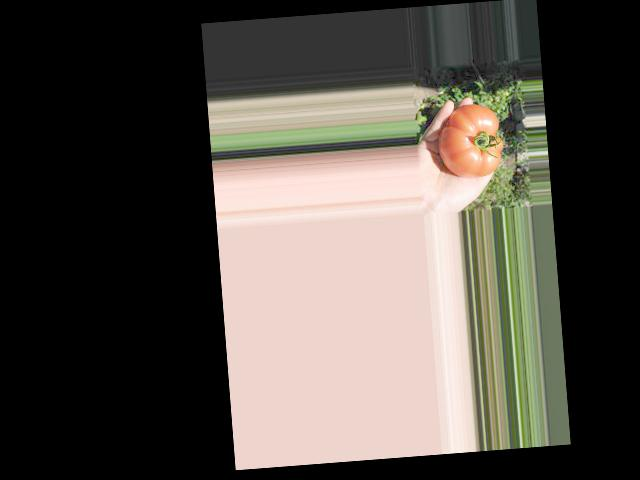tomato: (436, 102, 505, 179)
